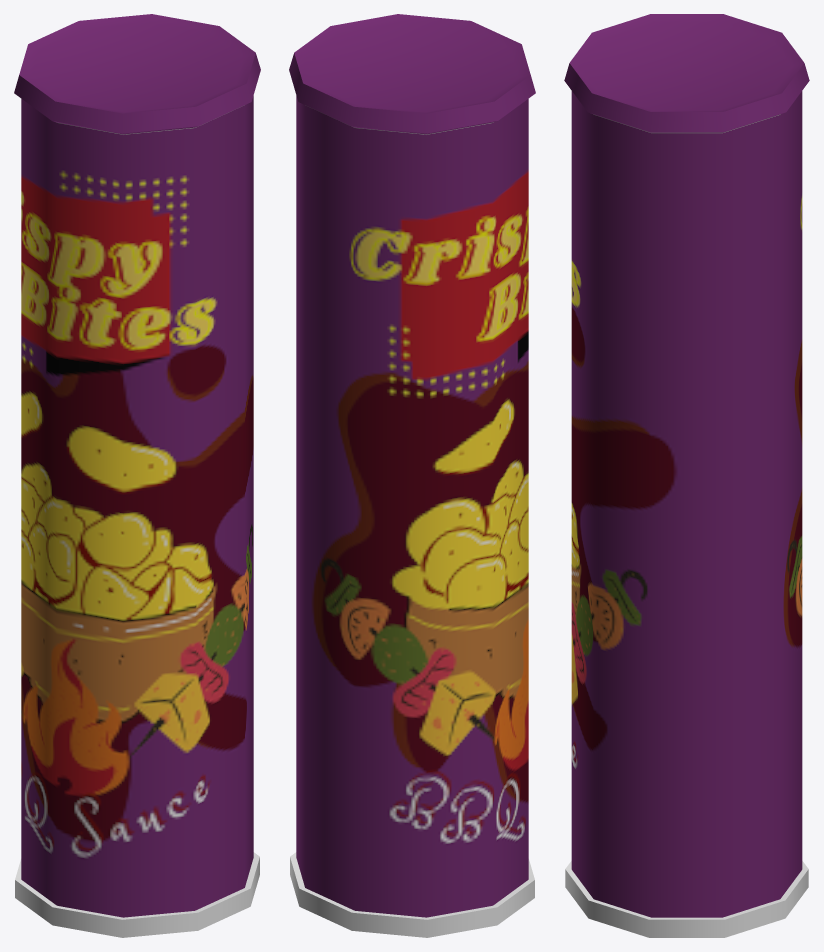
The model's file is can_chips_bbq.fbx.
The picture shows the model from 3 angles, left to right: view 1: azimuth 30°, elevation 25°; view 2: azimuth 150°, elevation 25°; view 3: azimuth 270°, elevation 25°; orthographic projection.
Visible parts, largest first — view 1: can_chips_bbq; view 2: can_chips_bbq; view 3: can_chips_bbq.
Boxes of the visible parts, x1,y1,x2,y2 form: can_chips_bbq: (14, 14, 260, 937); can_chips_bbq: (289, 14, 535, 937); can_chips_bbq: (564, 14, 809, 937).
Bounding box in the file's own units: 52.19 × 196 × 52.92.
